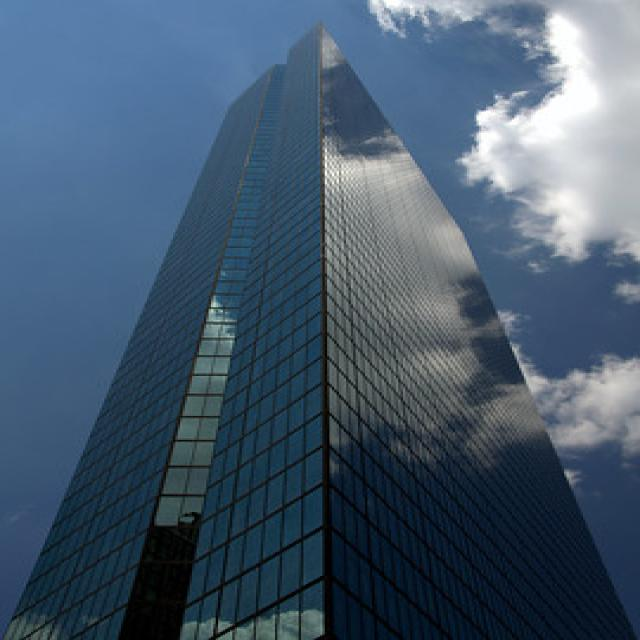building: (2, 16, 640, 640)
